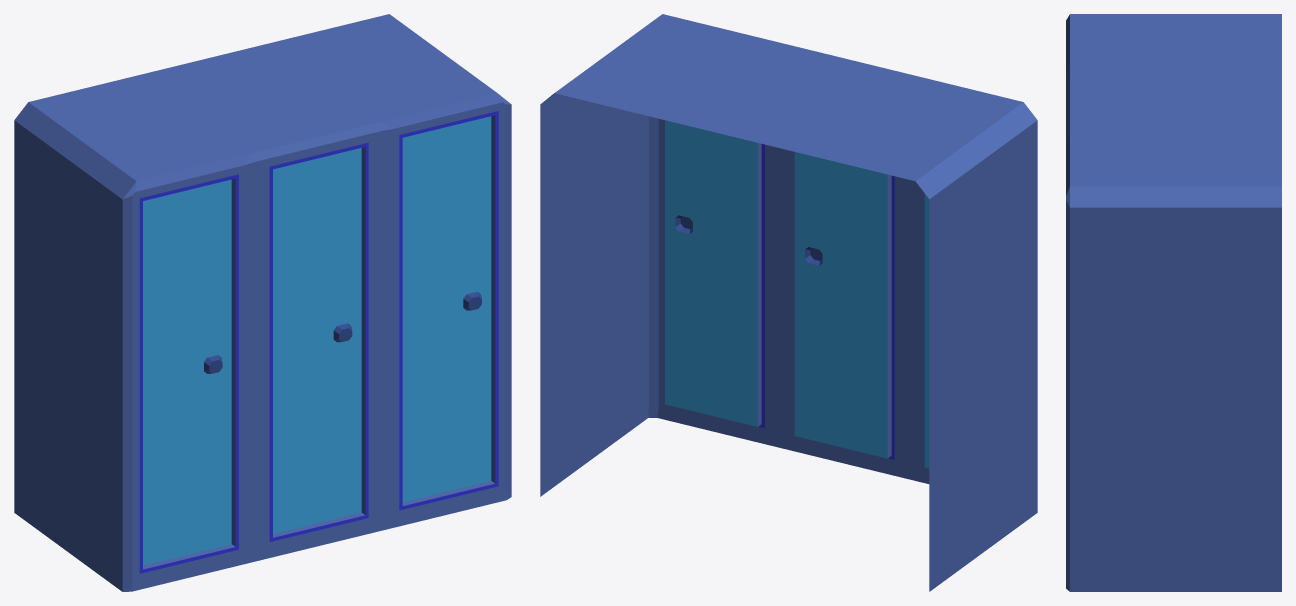
File: LockersNEW.fbx
The picture shows the model from 3 angles, left to right: view 1: azimuth 30°, elevation 25°; view 2: azimuth 150°, elevation 25°; view 3: azimuth 270°, elevation 25°; orthographic projection. The views are drawn at different scales.
Parts seen in each view (by area): view 1: New Locker; view 2: New Locker; view 3: New Locker.
Boxes of the visible parts, bbox=[...] form: New Locker: bbox=[14, 14, 511, 591]; New Locker: bbox=[540, 14, 1037, 591]; New Locker: bbox=[1066, 14, 1281, 591].
Size of the model in its own units: 200 by 200 by 98.16.
